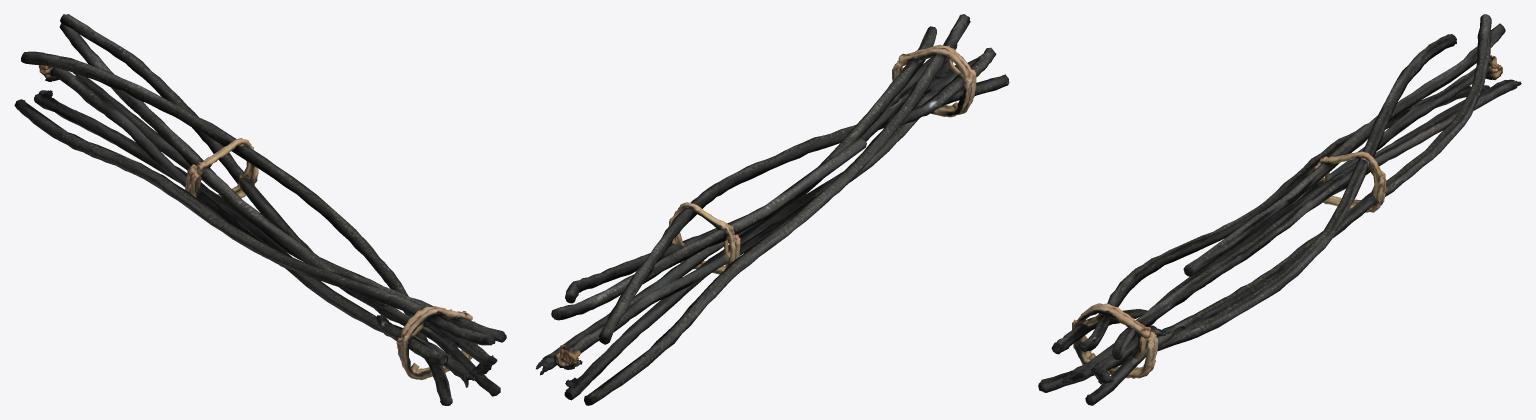
Rendered from prop-cable-wall-v01.glb.
The picture shows the model from 3 angles, left to right: view 1: azimuth 30°, elevation 25°; view 2: azimuth 150°, elevation 25°; view 3: azimuth 330°, elevation 25°; orthographic projection. The views are drawn at different scales.
Parts seen in each view (by area): view 1: tripo_node_ba405852-0b66-4e7b-a9d5-71372cbd5cee; view 2: tripo_node_ba405852-0b66-4e7b-a9d5-71372cbd5cee; view 3: tripo_node_ba405852-0b66-4e7b-a9d5-71372cbd5cee.
Part boxes in pixels (x1,y1,x2,y2): tripo_node_ba405852-0b66-4e7b-a9d5-71372cbd5cee: [14, 14, 506, 405]; tripo_node_ba405852-0b66-4e7b-a9d5-71372cbd5cee: [536, 14, 1009, 405]; tripo_node_ba405852-0b66-4e7b-a9d5-71372cbd5cee: [1038, 14, 1521, 405].
Size of the model in its own units: 0.7856 by 0.6995 by 5.5.
Materials: 1 (1 with a texture image).
